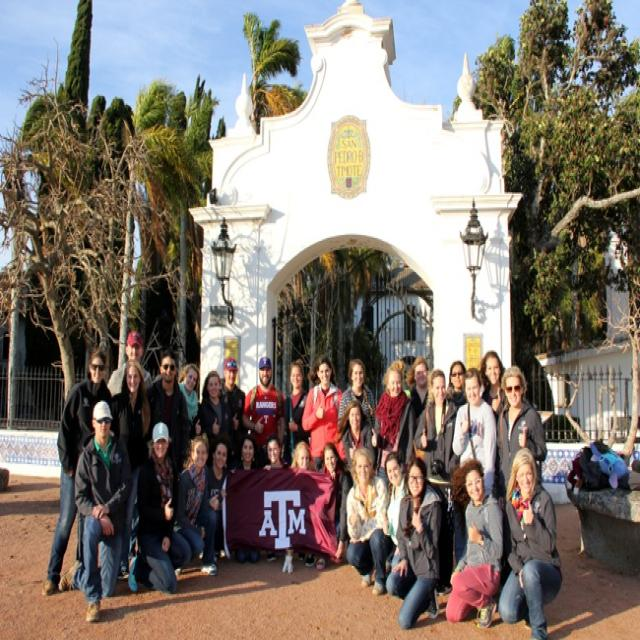body: (54, 396, 130, 624), (46, 349, 114, 593), (495, 445, 564, 638), (126, 417, 192, 596), (382, 452, 446, 631), (443, 455, 505, 630), (110, 357, 147, 582), (345, 445, 391, 597), (450, 365, 498, 503), (498, 364, 548, 496), (369, 358, 416, 493), (176, 432, 220, 576), (141, 349, 191, 474), (301, 352, 348, 473), (240, 353, 288, 470), (412, 368, 459, 479), (313, 440, 351, 572), (228, 434, 266, 564), (218, 355, 247, 476), (106, 328, 154, 399), (384, 449, 411, 575), (283, 356, 312, 467), (203, 441, 229, 563), (198, 371, 239, 446), (338, 358, 377, 434), (336, 399, 375, 473), (478, 350, 509, 423), (403, 353, 430, 424), (176, 361, 201, 427), (262, 434, 293, 472), (446, 359, 469, 410), (290, 439, 317, 473)
